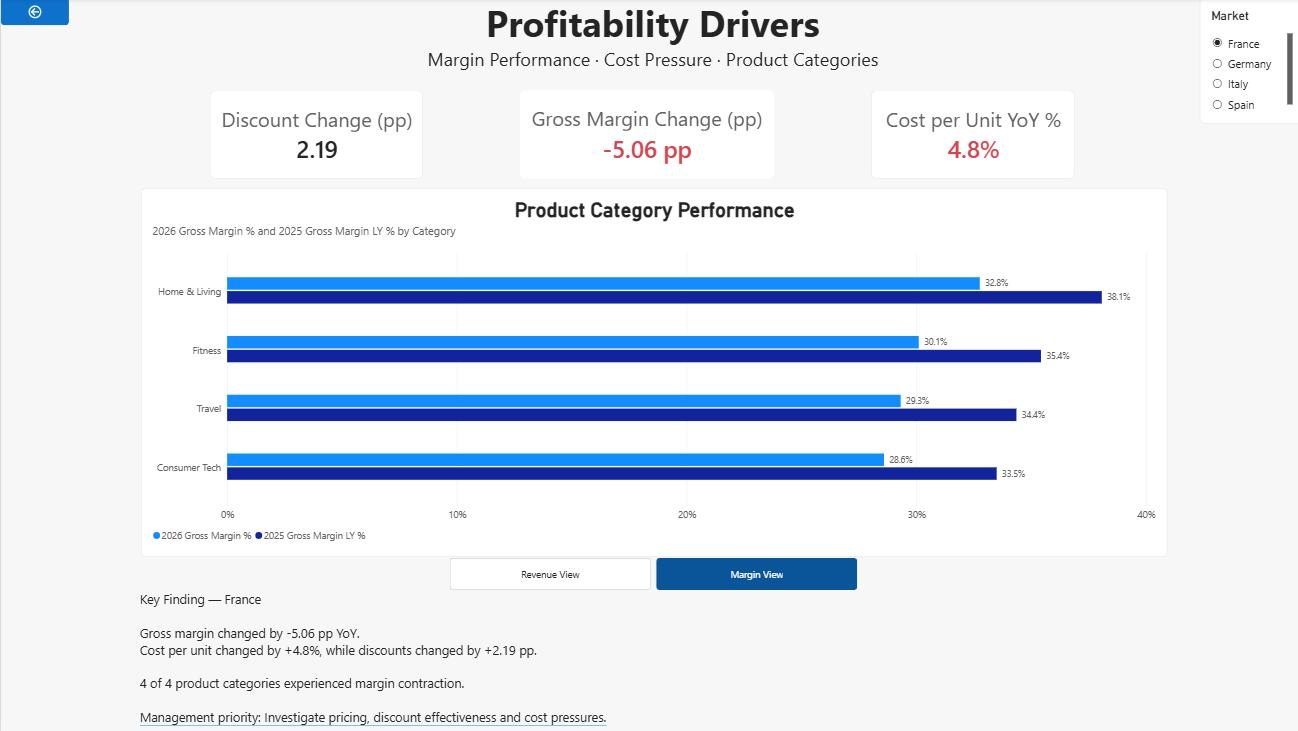

The dashboard page shown, as its layout file describes it:
{"tool":"powerbi","page":{"name":"Profitability Drivers","canvas":[1920,1080],"ordinal":1},"visuals":[{"type":"cardVisual","fields":{"Data":["FactSales.Gross Margin Change (pp)"]},"box":[763.8,136.2,375.5,130.7],"z":3000},{"type":"clusteredBarChart","title":"Product Category Performance","fields":{"Category":["DimProduct.Category"],"Y":["FactSales.Gross Margin %","FactSales.Gross Margin LY %"]},"box":[206.1,279.8,1511.1,542.9],"z":4000},{"type":"cardVisual","fields":{"Data":["FactSales.Cost per Unit YoY %"]},"box":[1281,136.2,300,130.7],"z":5000},{"type":"actionButton","box":[0,0,100,40],"z":6001},{"type":"bookmarkNavigator","box":[660.7,824.5,600,47.9],"z":6002},{"type":"cardVisual","fields":{"Data":["FactSales.Discount Change (pp)"]},"box":[307.4,136.2,314.7,130.7],"z":6003},{"type":"textbox","box":[204.3,872.4,1511.1,208],"z":6004},{"type":"listSlicer","fields":{"Values":["DimStore.Market"]},"box":[1765,0,154.6,185.9],"z":6005},{"type":"textbox","box":[0,0,1919.6,169.3],"z":6006}]}

Visuals, with their boxes on the page's 1920x1080 design canvas (x1, y1, x2, y2). These are canvas units, not pixel positions in the 1298x731 screenshot, which may show the page scaled, cropped or inside an application window:
cardVisual - FactSales.Gross Margin Change (pp): region(764, 136, 1139, 267)
"Product Category Performance" clusteredBarChart: region(206, 280, 1717, 823)
cardVisual - FactSales.Cost per Unit YoY %: region(1281, 136, 1581, 267)
actionButton: region(0, 0, 100, 40)
bookmarkNavigator: region(661, 824, 1261, 872)
cardVisual - FactSales.Discount Change (pp): region(307, 136, 622, 267)
textbox: region(204, 872, 1715, 1080)
listSlicer - DimStore.Market: region(1765, 0, 1920, 186)
textbox: region(0, 0, 1920, 169)
